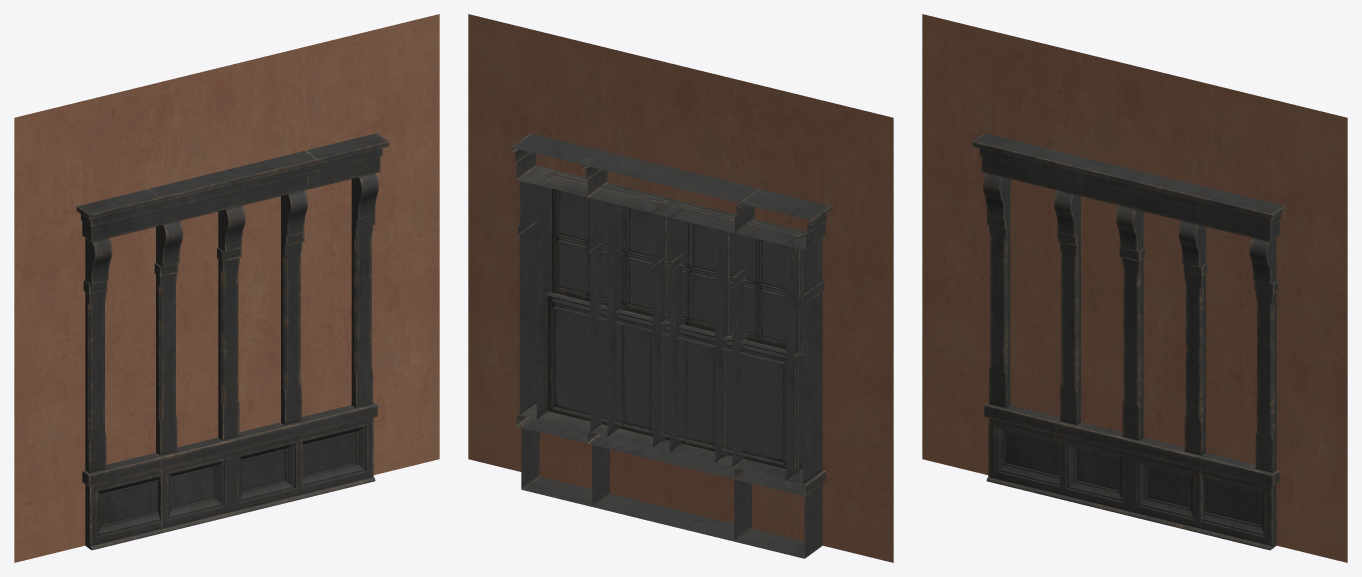
Rendered from runtime.gltf.
The picture shows the model from 3 angles, left to right: view 1: azimuth 30°, elevation 25°; view 2: azimuth 150°, elevation 25°; view 3: azimuth 330°, elevation 25°; orthographic projection.
Visible parts, largest first — view 1: solid-wall_standard_standard_01, large-window_centered_large_01, large-wall_window_centered_large_01, small-window_centered_small_01, small-wall_window_centered_small_01; view 2: solid-wall_standard_standard_01, large-window_centered_large_01, large-wall_window_centered_large_01, small-window_centered_small_01, small-wall_window_centered_small_01; view 3: solid-wall_standard_standard_01, large-window_centered_large_01, large-wall_window_centered_large_01, small-window_centered_small_01, small-wall_window_centered_small_01.
Boxes of the visible parts, left/top/right/bottom form: solid-wall_standard_standard_01: left=14, top=14, right=439, bottom=562; large-window_centered_large_01: left=76, top=133, right=389, bottom=550; large-wall_window_centered_large_01: left=14, top=19, right=439, bottom=553; small-window_centered_small_01: left=148, top=150, right=317, bottom=532; small-wall_window_centered_small_01: left=138, top=50, right=315, bottom=456; solid-wall_standard_standard_01: left=468, top=14, right=893, bottom=562; large-window_centered_large_01: left=511, top=133, right=831, bottom=558; large-wall_window_centered_large_01: left=468, top=14, right=893, bottom=553; small-window_centered_small_01: left=582, top=155, right=759, bottom=541; small-wall_window_centered_small_01: left=607, top=49, right=769, bottom=523; solid-wall_standard_standard_01: left=922, top=14, right=1347, bottom=562; large-window_centered_large_01: left=972, top=133, right=1285, bottom=550; large-wall_window_centered_large_01: left=922, top=14, right=1347, bottom=562; small-window_centered_small_01: left=1044, top=160, right=1207, bottom=530; small-wall_window_centered_small_01: left=1046, top=49, right=1223, bottom=456.
Size of the model in its own units: 3 by 3 by 0.39.
3 materials, 3 textured.
